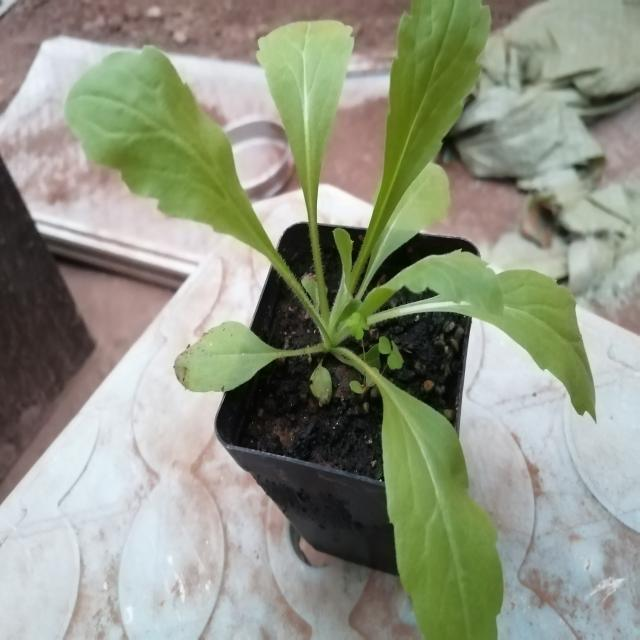horseweed: (71, 5, 549, 596)
